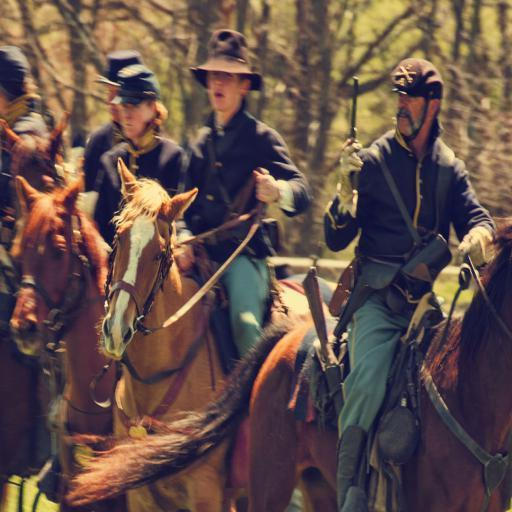horse: (64, 215, 512, 512), (94, 156, 338, 512), (8, 176, 112, 511), (0, 116, 90, 266), (0, 305, 54, 512)
